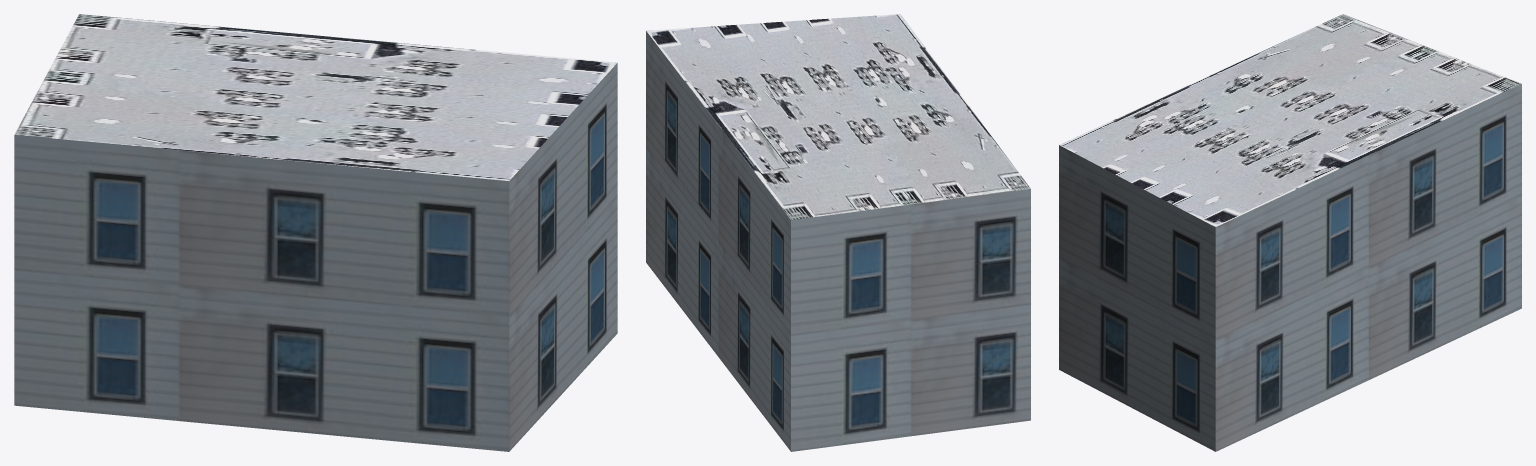
Rendered from ResTex__4233.fbx.
The picture shows the model from 3 angles, left to right: view 1: azimuth 30°, elevation 25°; view 2: azimuth 150°, elevation 25°; view 3: azimuth 270°, elevation 25°; orthographic projection. The views are drawn at different scales.
Visible parts, largest first — view 1: CityEngineMaterial_18_m, CityEngineMaterial_m; view 2: CityEngineMaterial_18_m, CityEngineMaterial_m; view 3: CityEngineMaterial_18_m, CityEngineMaterial_m.
Boxes of the visible parts, x1=… form: CityEngineMaterial_18_m: x1=14, y1=63, x2=617, y2=451; CityEngineMaterial_m: x1=14, y1=14, x2=617, y2=180; CityEngineMaterial_18_m: x1=646, y1=31, x2=1030, y2=451; CityEngineMaterial_m: x1=646, y1=14, x2=1030, y2=220; CityEngineMaterial_18_m: x1=1059, y1=84, x2=1521, y2=451; CityEngineMaterial_m: x1=1059, y1=14, x2=1521, y2=226.
Bounding box in the file's own units: 12.21 × 6 × 11.2.
Materials: 2 (2 with a texture image).
